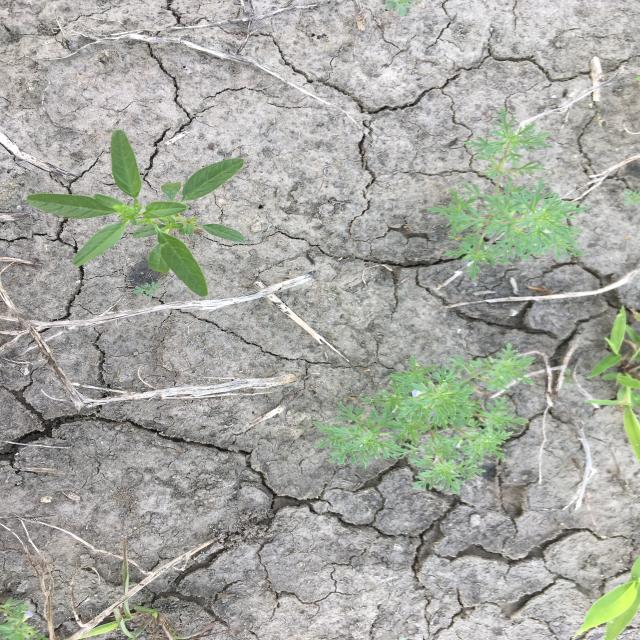Ragweed: (311, 342, 536, 496), (425, 108, 592, 282), (2, 598, 47, 640), (130, 279, 163, 300)
Waterhemp: (24, 129, 248, 298)
